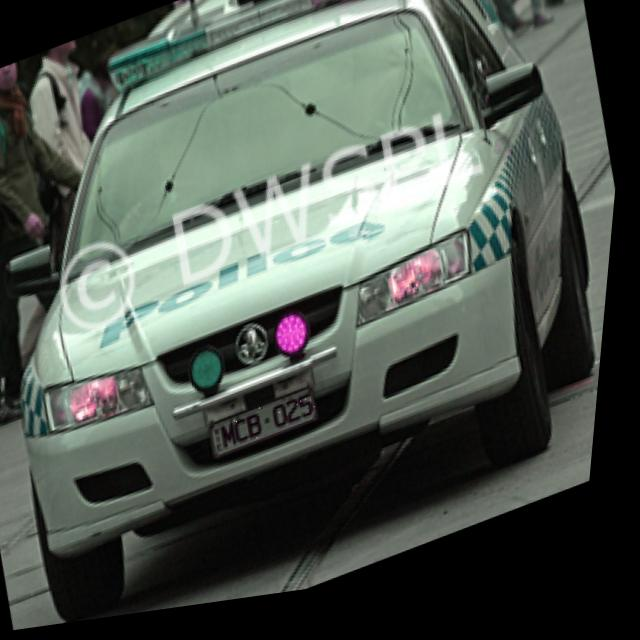license_plate: (213, 393, 329, 465)
